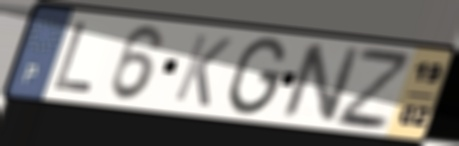6: (107, 22, 165, 104)
G: (223, 34, 290, 118)
K: (170, 31, 236, 110)
L: (49, 19, 97, 96)
N: (277, 41, 364, 126)
Z: (332, 43, 413, 132)
